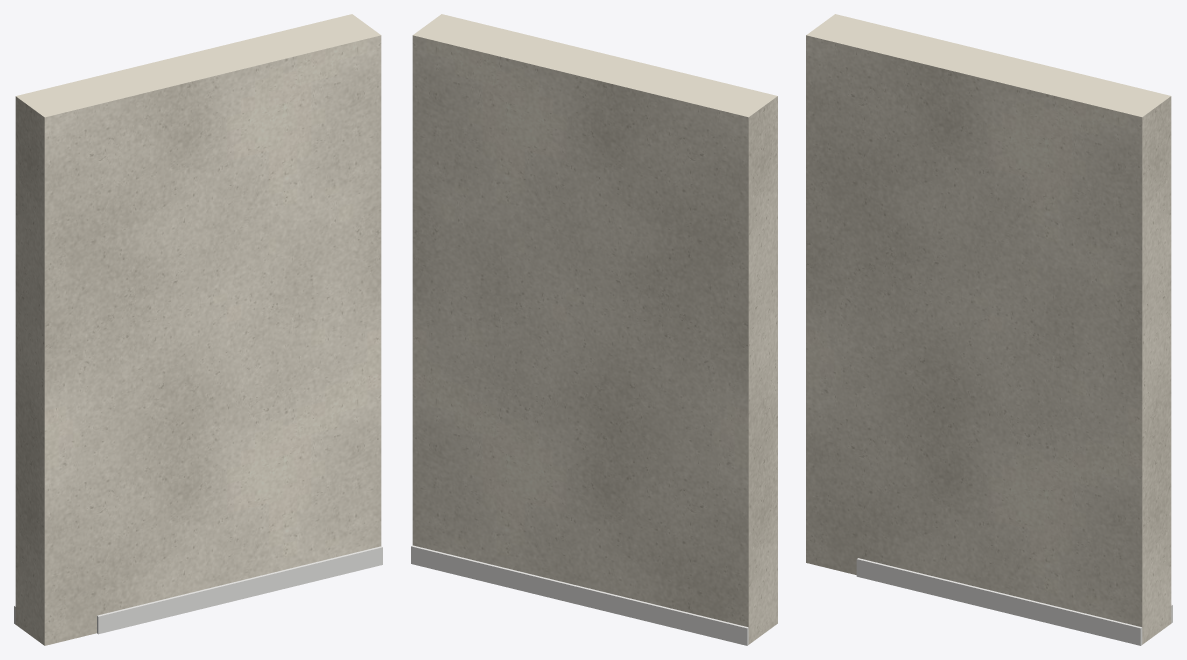
Rendered from wall_hall_party_end.glb.
3 views of the same model, side by side, from view 1: azimuth 30°, elevation 25°; view 2: azimuth 150°, elevation 25°; view 3: azimuth 330°, elevation 25° (orthographic).
Visible parts, largest first — view 1: wall_hall_party_end_plaster, wall_hall_party_end_trim; view 2: wall_hall_party_end_plaster, wall_hall_party_end_trim; view 3: wall_hall_party_end_plaster, wall_hall_party_end_trim.
Part boxes in pixels (x1,y1,x2,y2): wall_hall_party_end_plaster: [15, 14, 381, 645]; wall_hall_party_end_trim: [14, 546, 382, 634]; wall_hall_party_end_plaster: [412, 14, 777, 644]; wall_hall_party_end_trim: [411, 545, 748, 645]; wall_hall_party_end_plaster: [806, 14, 1171, 644]; wall_hall_party_end_trim: [856, 558, 1172, 645].
Size of the model in its own units: 2 by 3 by 0.33.
2 materials, 1 textured.
